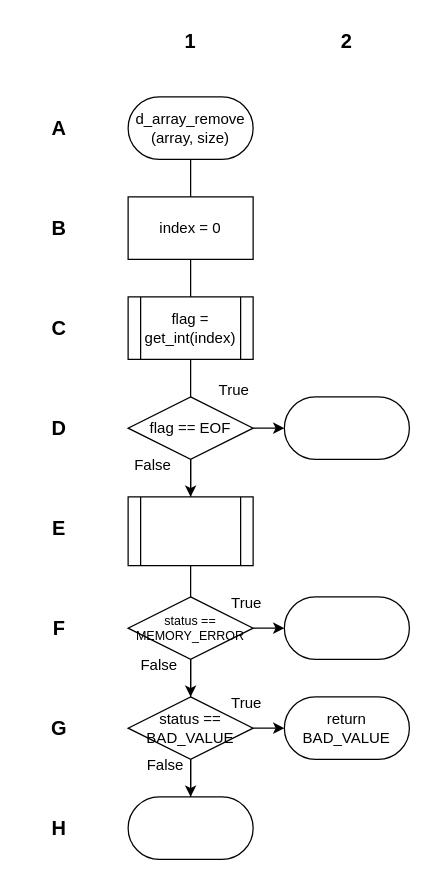
Image size: 431x881. Some labels were removed from this diagram. The centre of each missing label's shape, as x and y in pixels:
"return EOF" belongs at point (346, 427).
"return EXIT_SUCCESS" belongs at point (190, 827).
"return MEMORY_ERROR" belongs at point (346, 627).
"status = array_remove (array, size, index)" belongs at point (190, 531).
